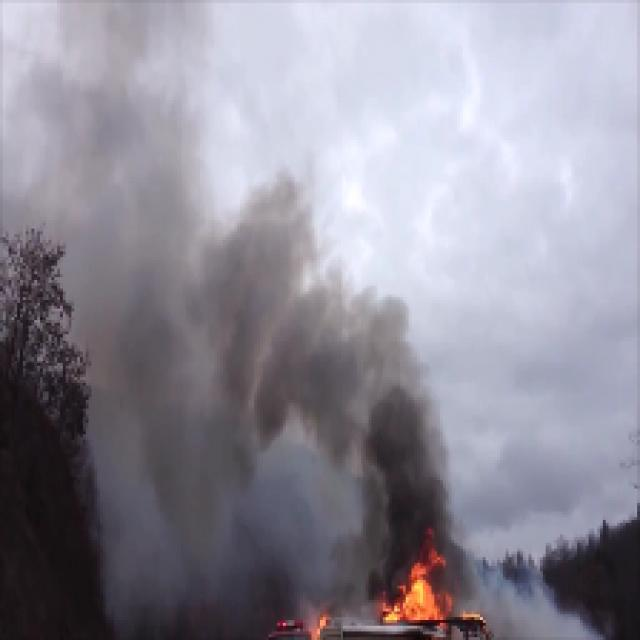fire: (378, 559, 453, 623)
smoke: (94, 236, 460, 519), (2, 1, 211, 233)
